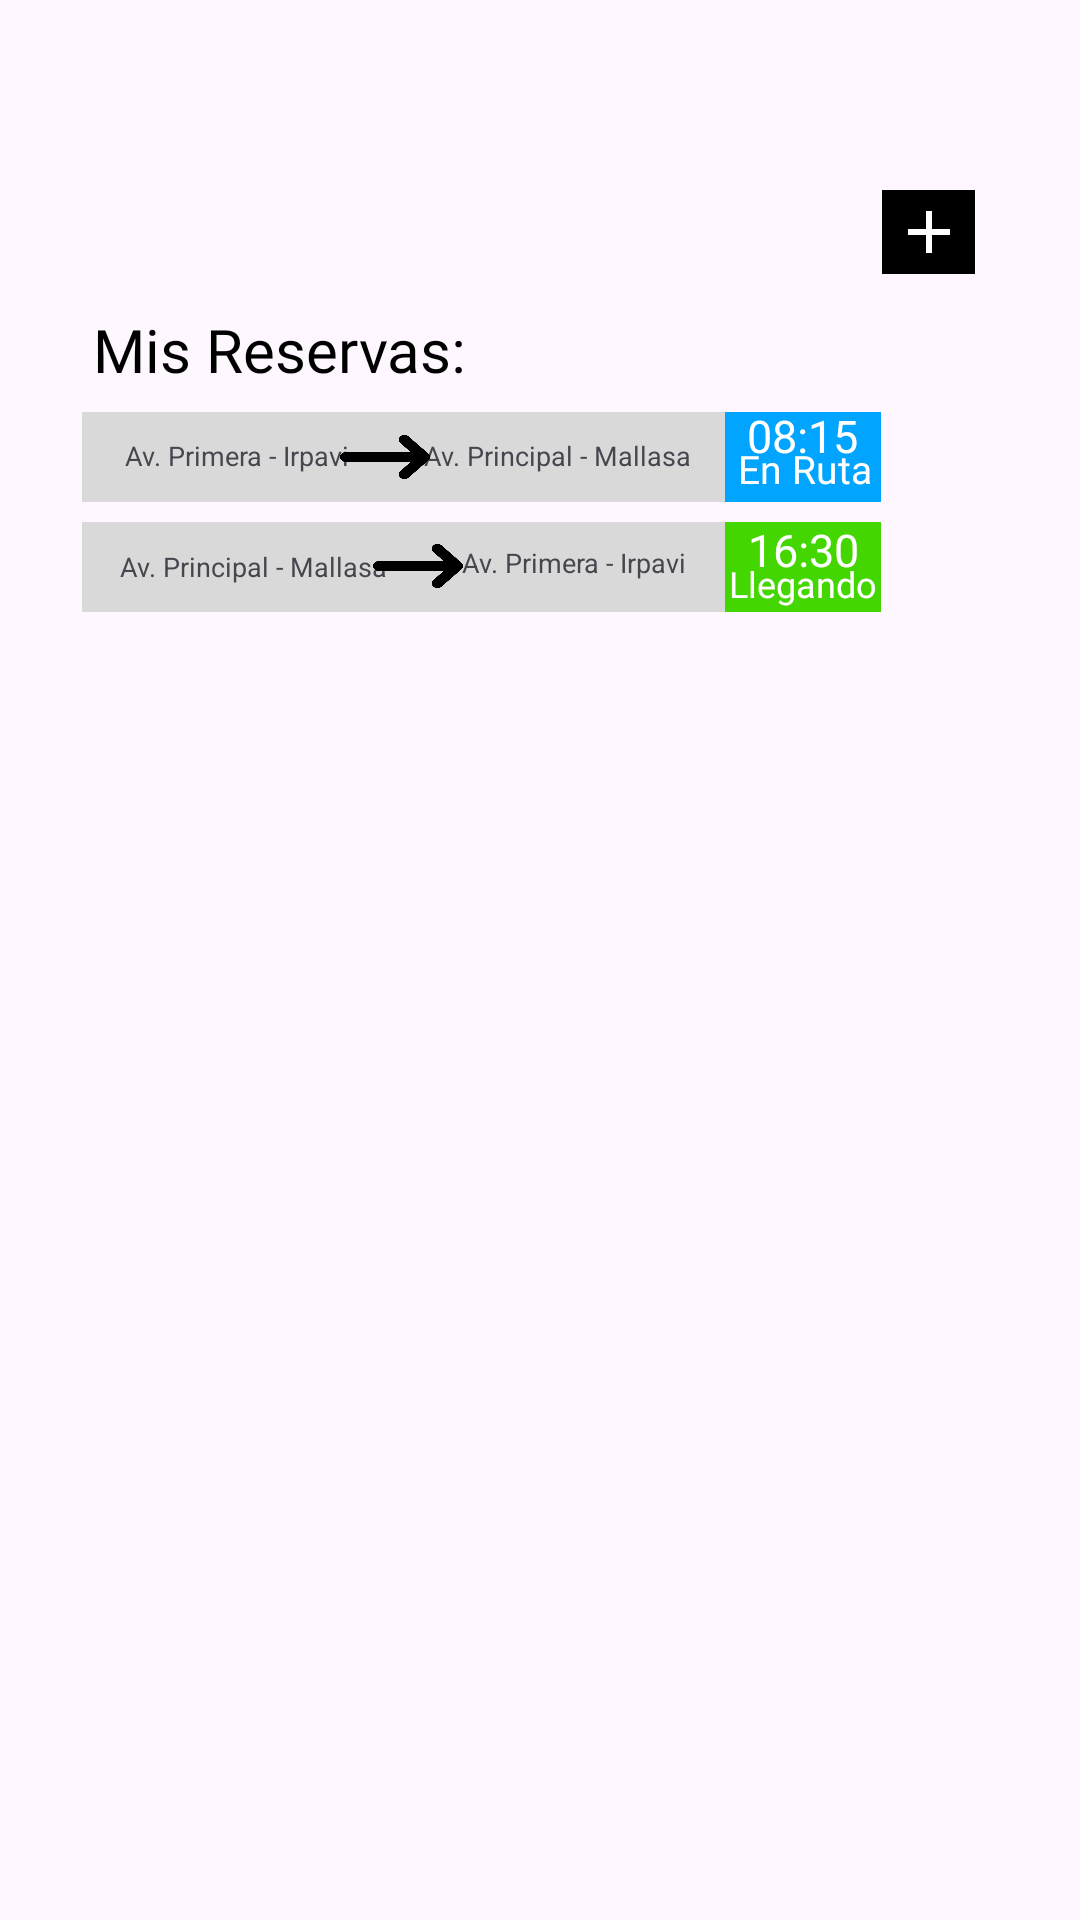

Where to tap for icons on this 1080 × 1920 app screen, as point (x, y):
add: point (928, 232)
flecha: point (385, 457), point (418, 566)
